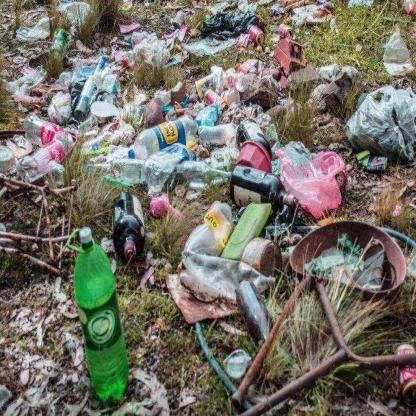Glass: (235, 282, 277, 347), (228, 169, 290, 206), (116, 189, 143, 258)
Metal: (394, 342, 416, 406), (251, 23, 264, 42)
Plastic: (69, 226, 129, 402), (185, 249, 275, 296), (127, 116, 197, 161), (224, 197, 274, 260), (75, 51, 111, 119), (188, 198, 226, 252), (27, 136, 74, 179), (19, 111, 72, 148), (88, 155, 148, 184), (236, 117, 270, 148), (199, 125, 234, 142), (226, 66, 246, 90)
Trash: (347, 83, 414, 166), (277, 148, 344, 218), (202, 6, 256, 30), (131, 35, 177, 62), (312, 243, 352, 274), (14, 10, 54, 40), (380, 35, 408, 76), (185, 35, 238, 56), (61, 5, 92, 29), (195, 69, 219, 96)
